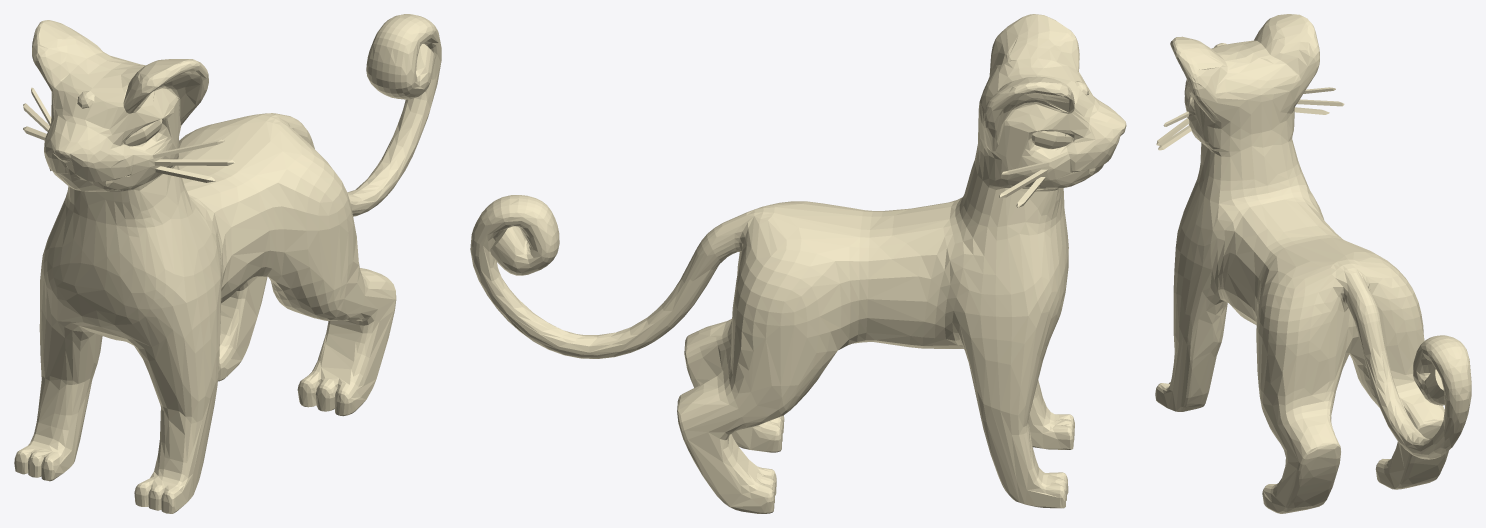
File: persian.glb
The picture shows the model from 3 angles, left to right: view 1: azimuth 30°, elevation 25°; view 2: azimuth 150°, elevation 25°; view 3: azimuth 270°, elevation 25°; orthographic projection. The views are drawn at different scales.
Parts seen in each view (by area): view 1: Node; view 2: Node; view 3: Node.
Part boxes in pixels (bbox=[...]): Node: bbox=[14, 14, 441, 513]; Node: bbox=[470, 14, 1126, 513]; Node: bbox=[1155, 14, 1471, 513].
Bounding box in the file's own units: 14.24 × 11.44 × 8.77.
